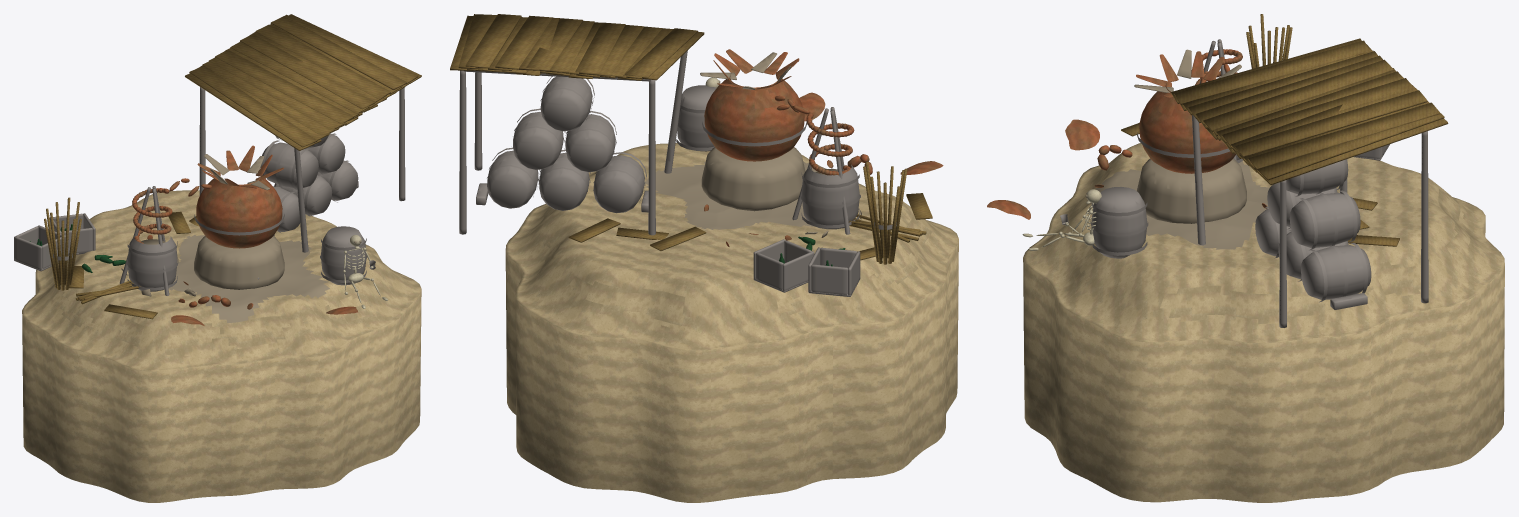
Rendered from rum_still.glb.
3 views of the same model, side by side, from view 1: azimuth 30°, elevation 25°; view 2: azimuth 150°, elevation 25°; view 3: azimuth 270°, elevation 25° (orthographic). The views are drawn at different scales.
Visible parts, largest first — view 1: rum_still; view 2: rum_still; view 3: rum_still.
Part boxes in pixels (x1,y1,x2,y2): rum_still: (14, 14, 421, 502); rum_still: (450, 14, 958, 502); rum_still: (987, 14, 1504, 502).
Size of the model in its own units: 7.34 by 5.72 by 7.02.
Materials: 7 (7 with a texture image).
